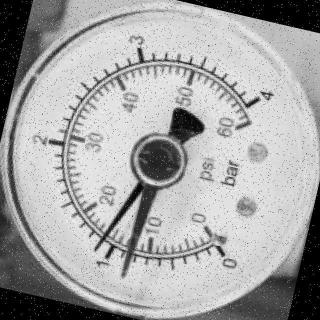gauge: (0, 0, 320, 320), (179, 196, 255, 276), (122, 124, 194, 194), (239, 80, 277, 118), (84, 236, 108, 257), (114, 264, 132, 282)
